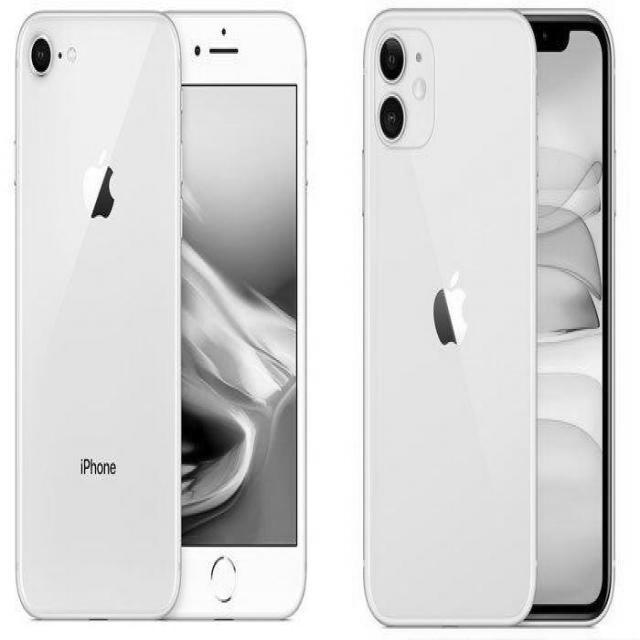fake: (355, 8, 538, 635), (12, 0, 181, 627)
